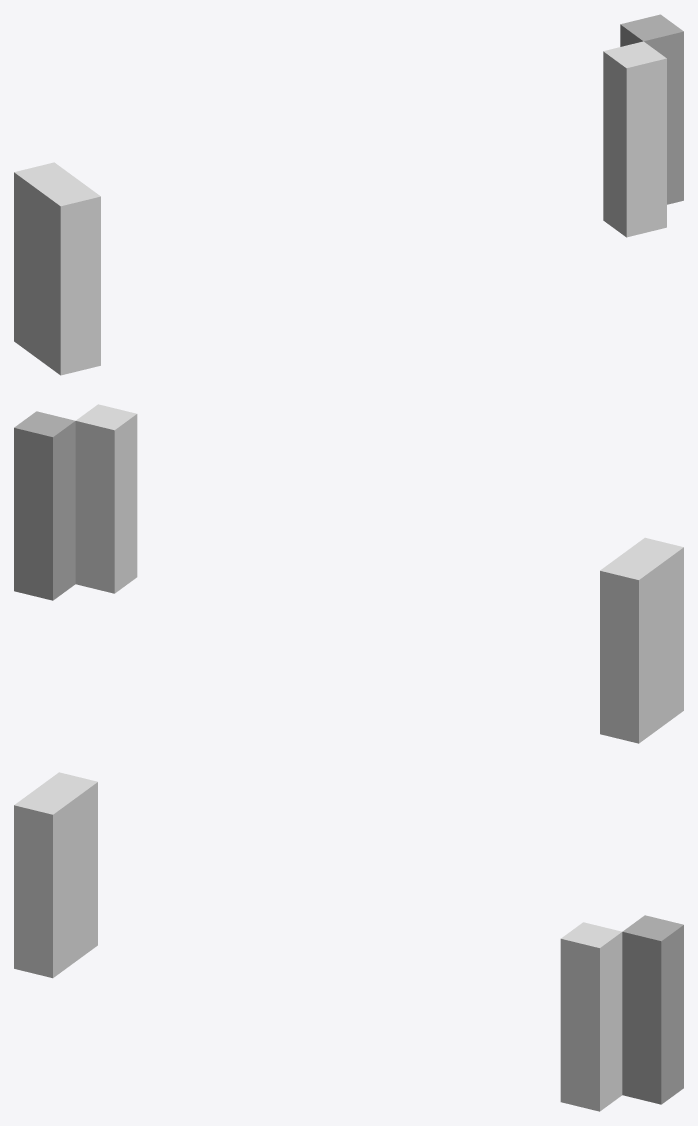
Rendered from bear2-3.obj.
The picture shows the model from 3 angles, top to bottom: view 1: azimuth 30°, elevation 25°; view 2: azimuth 150°, elevation 25°; view 3: azimuth 330°, elevation 25°; orthographic projection. The views are drawn at different scales.
Size of the model in its own units: 1.6 by 0.4 by 0.2.
1 material, 1 textured.
